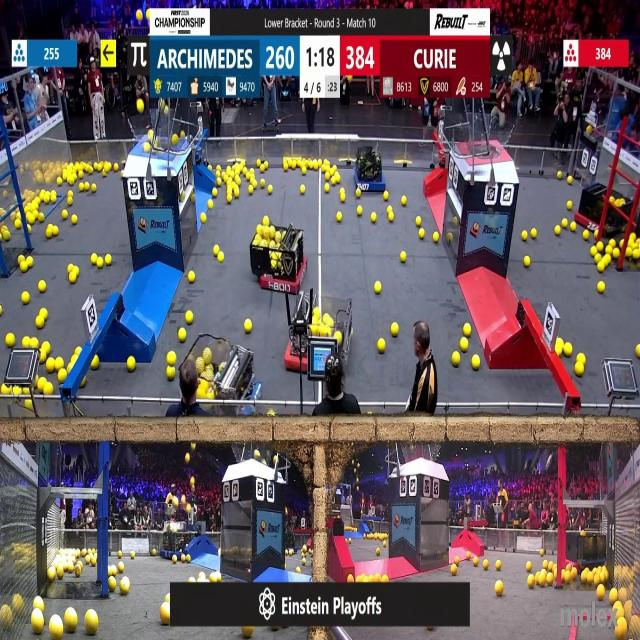ball_airborne: (137, 100, 144, 113), (178, 496, 185, 507), (172, 135, 179, 145), (184, 454, 190, 464), (144, 143, 150, 152), (148, 131, 154, 139), (189, 478, 195, 486), (186, 503, 191, 512), (168, 494, 173, 503), (180, 132, 185, 139), (165, 106, 170, 113)
ball_ground: (87, 612, 100, 636), (52, 618, 66, 640), (66, 612, 78, 635), (32, 614, 44, 635), (162, 606, 172, 626), (119, 580, 129, 596), (31, 595, 42, 609), (128, 356, 136, 371), (378, 339, 386, 354), (495, 582, 503, 597), (556, 341, 564, 356), (5, 335, 14, 348), (244, 626, 253, 639), (390, 322, 398, 336), (471, 355, 479, 369), (242, 322, 250, 336), (574, 362, 583, 374), (168, 352, 176, 365), (167, 366, 175, 379), (460, 339, 468, 352), (609, 590, 617, 603), (45, 359, 53, 372), (564, 344, 572, 357), (108, 579, 116, 592), (41, 342, 50, 353), (179, 327, 186, 341), (453, 352, 460, 366), (44, 383, 52, 395), (538, 572, 546, 584), (185, 311, 192, 324), (93, 356, 100, 369), (597, 587, 604, 600), (36, 317, 44, 328), (57, 357, 65, 368), (579, 570, 587, 581), (463, 324, 470, 336), (38, 280, 45, 292), (188, 272, 195, 284), (23, 291, 30, 303), (375, 282, 382, 294), (59, 371, 66, 383), (545, 572, 552, 584), (75, 564, 82, 576), (39, 310, 47, 320), (1, 233, 9, 243), (576, 353, 584, 363), (12, 386, 20, 396), (602, 254, 610, 264), (451, 564, 458, 575), (19, 263, 26, 274), (28, 213, 35, 224), (28, 256, 34, 268), (528, 575, 534, 587), (50, 190, 56, 202), (54, 224, 60, 236), (82, 185, 90, 194), (356, 573, 364, 582), (105, 254, 112, 264), (92, 254, 99, 264), (24, 338, 31, 348), (31, 339, 38, 349), (614, 248, 621, 258), (68, 175, 75, 185), (524, 256, 530, 267), (400, 251, 406, 262), (598, 282, 604, 293), (70, 274, 76, 285), (45, 229, 51, 240), (337, 333, 343, 344), (225, 184, 232, 193), (225, 167, 232, 176), (223, 176, 230, 185), (419, 230, 425, 240), (531, 230, 537, 240), (416, 216, 422, 226), (523, 232, 529, 242), (556, 224, 562, 234), (432, 234, 438, 244), (341, 191, 347, 201), (570, 221, 576, 231), (526, 562, 532, 572), (264, 216, 270, 226), (117, 563, 123, 573), (598, 264, 604, 274), (591, 246, 597, 256), (595, 253, 601, 263), (633, 249, 639, 259), (216, 572, 222, 582), (80, 378, 86, 388), (104, 166, 110, 176), (348, 574, 355, 582), (24, 388, 31, 396), (370, 213, 376, 222), (584, 232, 590, 241), (484, 560, 490, 569), (388, 213, 394, 222), (566, 202, 572, 211), (356, 207, 362, 216), (1, 385, 7, 394), (248, 185, 254, 194), (38, 213, 44, 222), (62, 211, 68, 220), (78, 182, 84, 191), (562, 219, 568, 228), (236, 176, 242, 185), (382, 573, 388, 582), (14, 219, 20, 228), (172, 556, 178, 565), (108, 566, 114, 575), (595, 240, 601, 249), (336, 175, 342, 184), (283, 164, 289, 173), (98, 261, 104, 270), (250, 177, 256, 186), (636, 345, 640, 358), (384, 190, 389, 200), (338, 212, 343, 222), (218, 252, 223, 262), (214, 244, 219, 254), (92, 184, 98, 192), (400, 198, 406, 206), (226, 194, 232, 202), (212, 188, 218, 196), (68, 266, 74, 274), (216, 178, 222, 186), (259, 180, 265, 188), (208, 201, 214, 209), (113, 165, 119, 173), (330, 176, 336, 184), (627, 248, 633, 256), (608, 240, 614, 248), (556, 172, 562, 180), (78, 172, 84, 180), (162, 592, 168, 600), (16, 255, 22, 263), (452, 217, 458, 225), (356, 188, 361, 197), (299, 184, 304, 193), (72, 215, 77, 224), (202, 213, 207, 222), (496, 561, 501, 570), (472, 558, 477, 567), (567, 176, 572, 185), (58, 177, 63, 186), (621, 240, 626, 249), (542, 561, 547, 570), (242, 167, 247, 176), (68, 190, 74, 197), (454, 557, 460, 564), (299, 168, 305, 175), (320, 166, 326, 173), (269, 184, 274, 192), (324, 183, 329, 191), (68, 198, 73, 206), (235, 188, 240, 196), (324, 173, 329, 181), (388, 206, 393, 214), (631, 234, 636, 242), (76, 347, 81, 355), (28, 224, 33, 232), (0, 306, 4, 316), (93, 558, 98, 566), (187, 576, 193, 582), (303, 559, 309, 565), (295, 567, 300, 574), (539, 550, 544, 557), (215, 168, 220, 175), (291, 160, 296, 167), (186, 556, 190, 564), (377, 549, 381, 557), (595, 232, 599, 240), (256, 161, 260, 169), (132, 553, 136, 560), (466, 553, 470, 560), (120, 553, 124, 560), (260, 166, 264, 173), (449, 235, 453, 242), (265, 163, 269, 170), (208, 165, 212, 172), (152, 551, 156, 557), (119, 171, 123, 177), (218, 550, 220, 557)
goal: (460, 118, 518, 158), (129, 115, 186, 154)
robot_blue: (189, 333, 262, 415), (568, 530, 607, 570), (354, 144, 385, 192), (160, 525, 199, 559)
robot_red: (250, 221, 308, 293), (285, 306, 337, 376), (578, 174, 608, 229), (606, 187, 636, 226)
